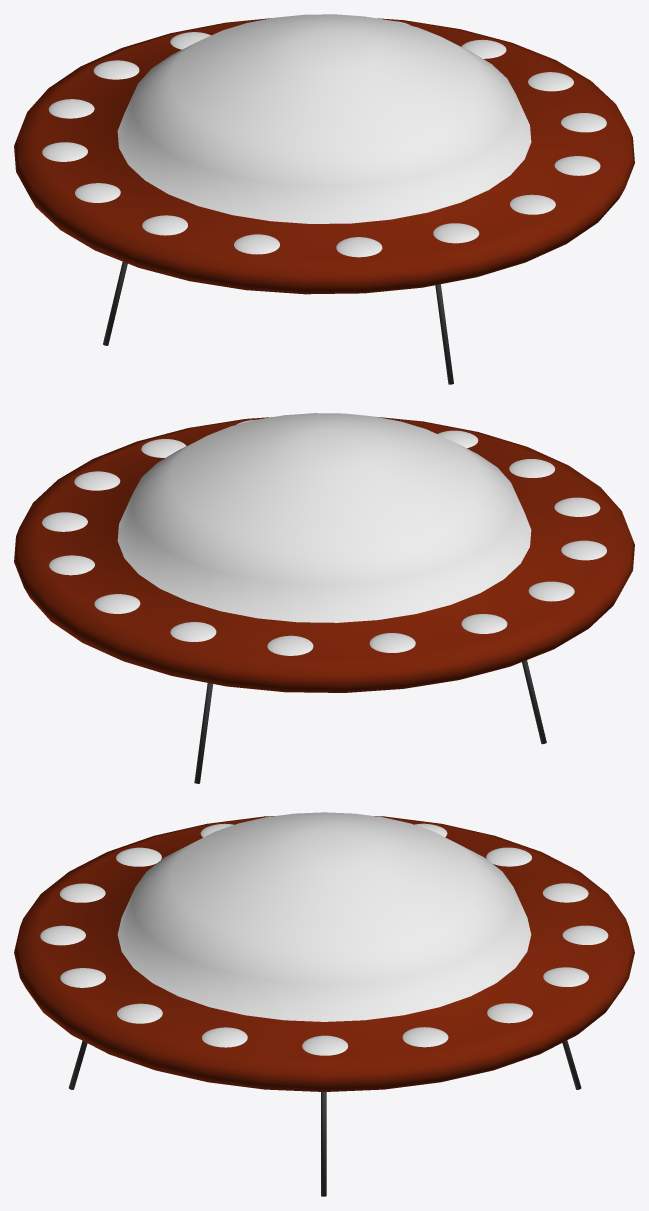
File: spaceshipByPaulo.fbx
3 renders of one model, top to bottom at view 1: azimuth 30°, elevation 25°; view 2: azimuth 150°, elevation 25°; view 3: azimuth 270°, elevation 25°, orthographic.
Visible parts, largest first — view 1: SpaceShip; view 2: SpaceShip; view 3: SpaceShip.
Boxes of the visible parts, <box> form: SpaceShip: <box>14,14,634,384</box>; SpaceShip: <box>14,413,634,783</box>; SpaceShip: <box>14,812,634,1196</box>.
Size of the model in its own units: 458 by 202 by 458.
